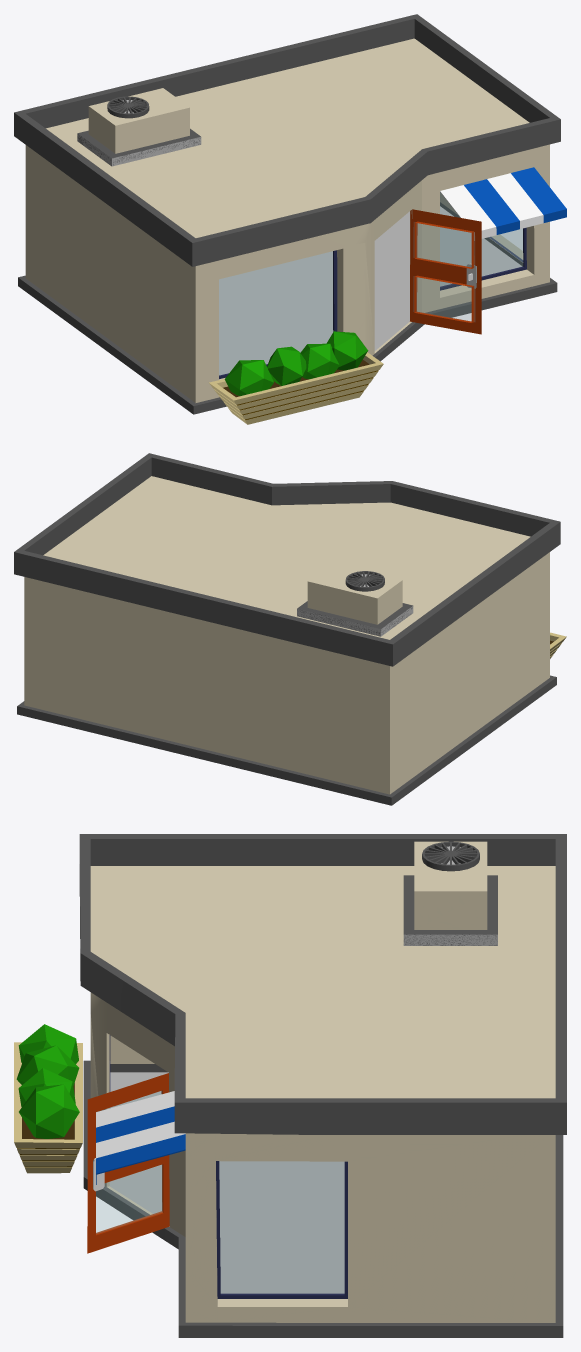
The picture shows the model from 3 angles, top to bottom: view 1: azimuth 30°, elevation 25°; view 2: azimuth 150°, elevation 25°; view 3: azimuth 270°, elevation 25°; orthographic projection. The views are drawn at different scales.
Parts seen in each view (by area): view 1: pCube1, pCube5, pCube3, pPlatonic3, pPlatonic4, pPlatonic1, pPlatonic2; view 2: pCube1, pCube5; view 3: pCube1, pCube5, pCube3, pPlatonic1, pPlatonic4, pPlatonic3, pPlatonic2.
Part boxes in pixels (x1,y1,x2,y2): pCube1: [14, 14, 566, 414]; pCube5: [77, 88, 201, 166]; pCube3: [209, 352, 383, 424]; pPlatonic3: [224, 360, 273, 395]; pPlatonic4: [267, 346, 306, 385]; pPlatonic1: [326, 331, 368, 370]; pPlatonic2: [300, 343, 339, 379]; pCube1: [14, 453, 560, 805]; pCube5: [297, 563, 413, 636]; pCube1: [79, 834, 566, 1337]; pCube5: [403, 841, 497, 945]; pCube3: [14, 1042, 82, 1173]; pPlatonic1: [19, 1084, 79, 1138]; pPlatonic4: [16, 1045, 79, 1085]; pPlatonic3: [18, 1024, 78, 1063]; pPlatonic2: [18, 1068, 75, 1106].
Size of the model in its own units: 10.55 by 4.93 by 9.18.
